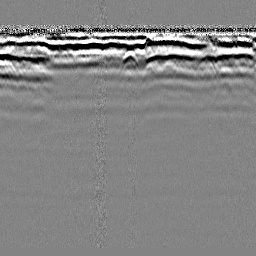cavity: (121, 50, 138, 65)
